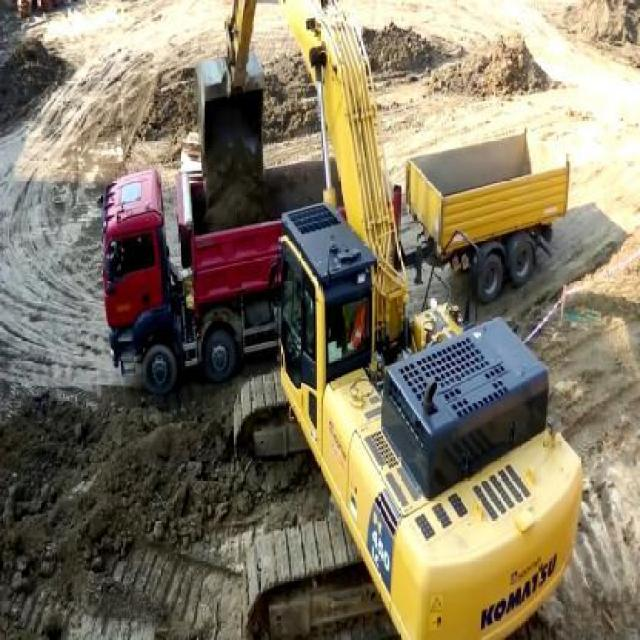Dump Truck: (95, 122, 571, 395)
Excavator: (194, 0, 582, 638)
